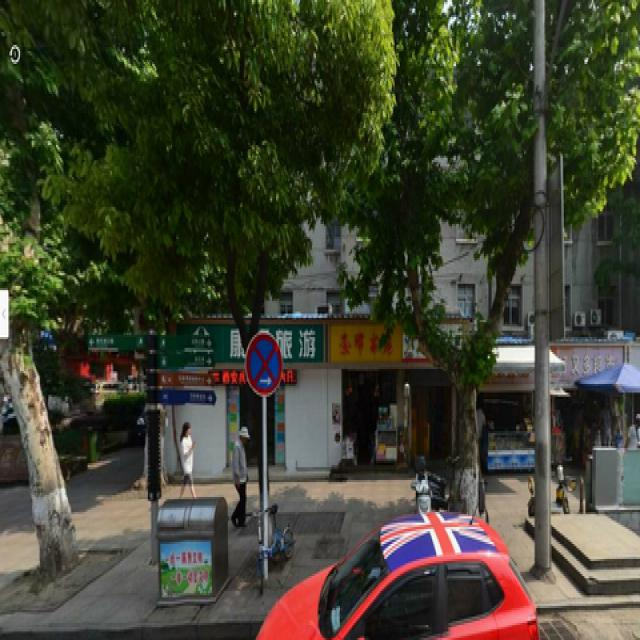cinn: (83, 8, 360, 550)
meta: (399, 17, 569, 514)
